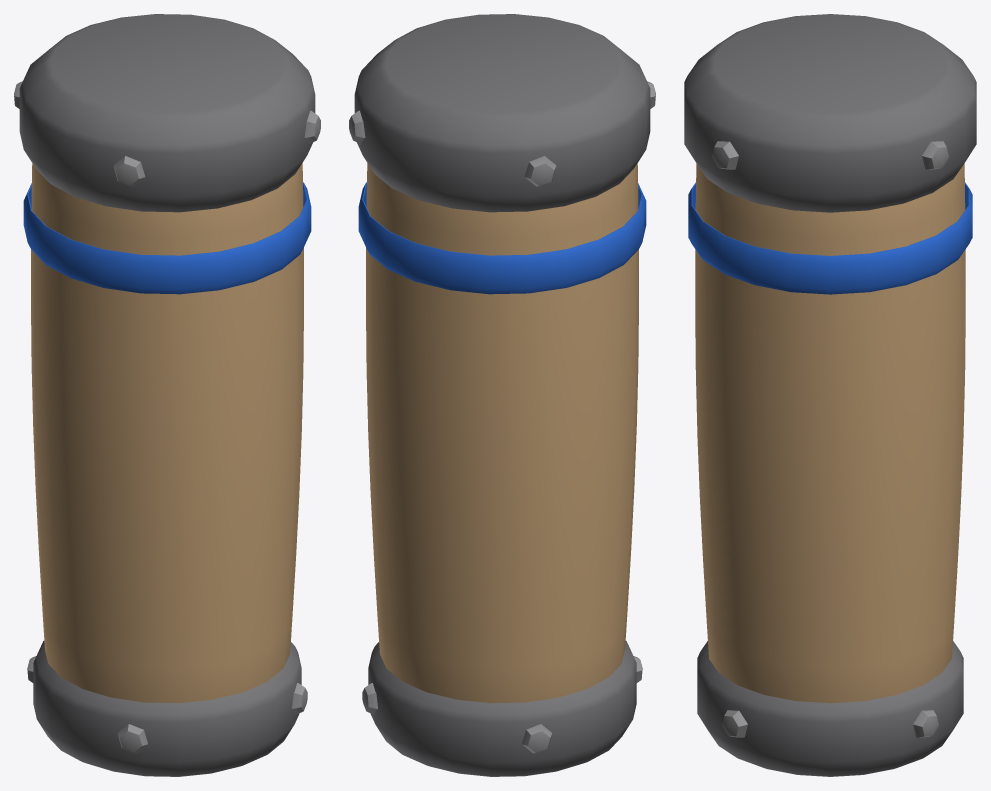
Rendered from Kit_Limb_Basic_LL.glb.
3 views of the same model, side by side, from view 1: azimuth 30°, elevation 25°; view 2: azimuth 150°, elevation 25°; view 3: azimuth 270°, elevation 25° (orthographic).
Visible parts, largest first — view 1: Kit_Limb_Basic_LL; view 2: Kit_Limb_Basic_LL; view 3: Kit_Limb_Basic_LL.
Boxes of the visible parts, bbox=[...] form: Kit_Limb_Basic_LL: bbox=[14, 14, 320, 776]; Kit_Limb_Basic_LL: bbox=[349, 14, 655, 776]; Kit_Limb_Basic_LL: bbox=[684, 14, 976, 776].
Size of the model in its own units: 0.1408 by 0.3488 by 0.1394.
